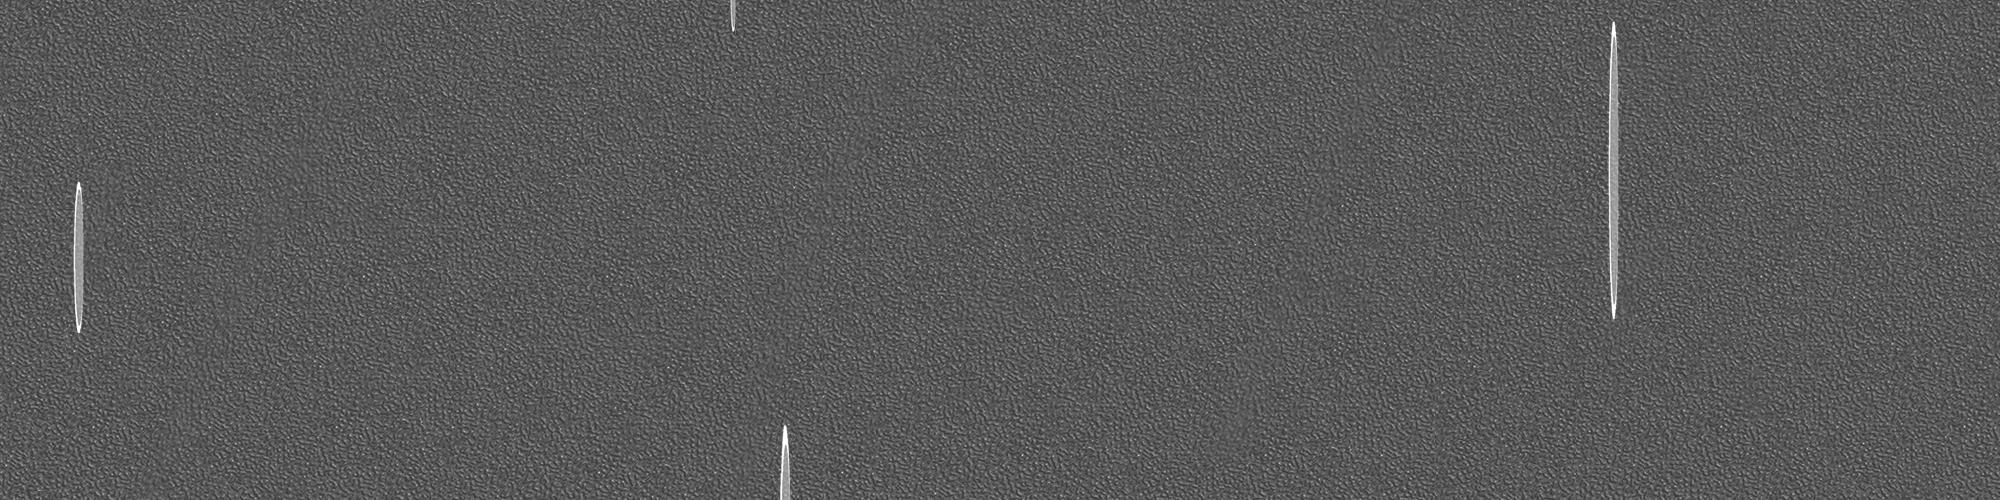Streaks: (1589, 14, 1643, 324), (65, 176, 94, 344), (767, 418, 805, 500), (719, 3, 744, 38)
